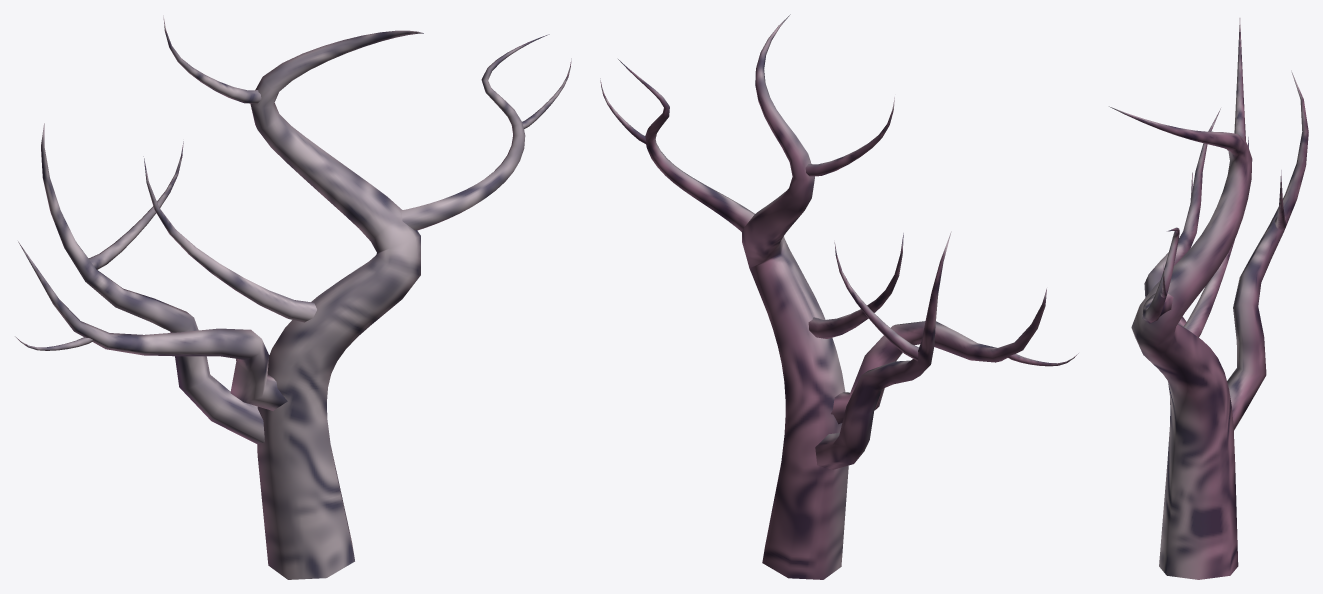
Rendered from DeadTree002.fbx.
3 views of the same model, side by side, from view 1: azimuth 30°, elevation 25°; view 2: azimuth 150°, elevation 25°; view 3: azimuth 270°, elevation 25° (orthographic). The views are drawn at different scales.
Visible parts, largest first — view 1: deadtree2; view 2: deadtree2; view 3: deadtree2.
Part boxes in pixels (box(x1,y1,x2,y2)): deadtree2: box(15, 15, 571, 579); deadtree2: box(600, 14, 1078, 579); deadtree2: box(1109, 18, 1308, 579).
Bounding box in the file's own units: 5.25 × 5.23 × 1.88.
1 material, 1 textured.
